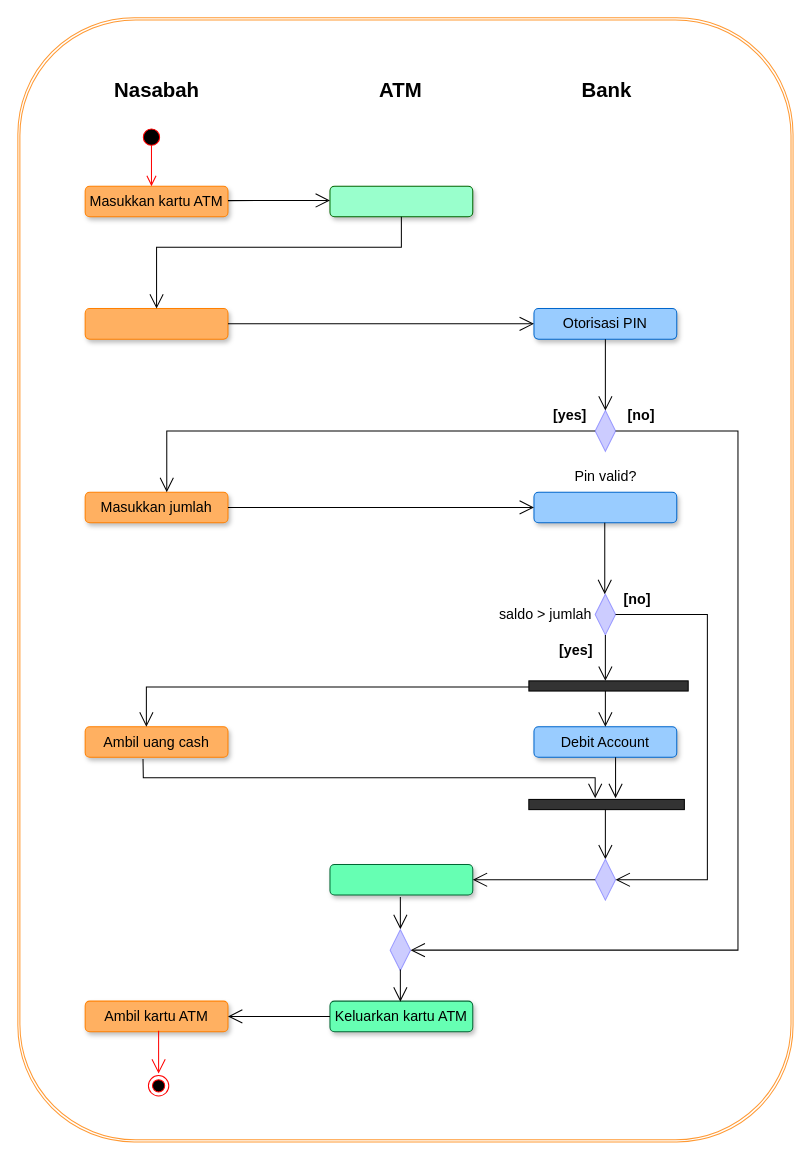
This 811x1160 diagram has some shape labels left out. The shapes that lost their labels are listed below. From the top down, each one's centre as x and y in pixels, then its label:
At (x=402, y=202): "Validasi kartu ATM".
At (x=157, y=324): "Masukkan PIN".
At (x=606, y=508): "Cek saldo".
At (x=402, y=880): "Tampilkan saldo".
